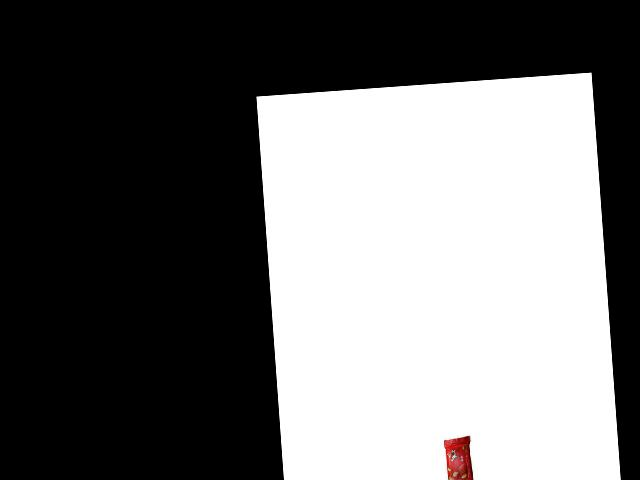chocolate: (441, 430, 481, 480)
